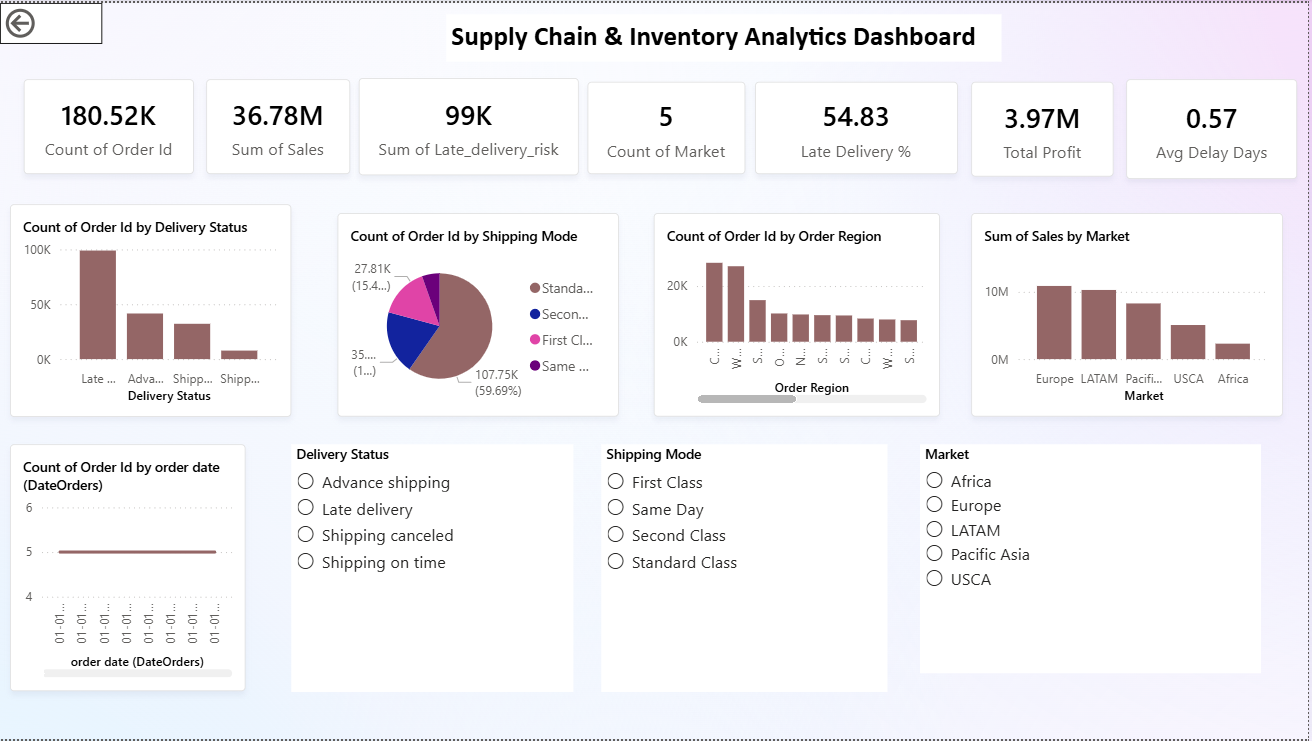

The dashboard page shown, as its layout file describes it:
{"tool":"powerbi","page":{"name":"Page 1","canvas":[1280,720],"ordinal":0},"visuals":[{"type":"card","fields":{"Values":["CountNonNull(supply_chain_cleaned.Order Id)"]},"box":[23.2,74.6,166.3,92.9],"z":0},{"type":"card","fields":{"Values":["Sum(supply_chain_cleaned.Sales)"]},"box":[201.8,74.6,140.6,92.9],"z":1000},{"type":"actionButton","box":[0,0,100,40],"z":2000},{"type":"columnChart","fields":{"Y":["CountNonNull(supply_chain_cleaned.Order Id)"],"Category":["supply_chain_cleaned.Delivery Status"]},"box":[9.8,196.9,275.1,207.9],"z":3000},{"type":"card","fields":{"Values":["Sum(supply_chain_cleaned.Late_delivery_risk)"]},"box":[351,73.4,215.2,95.4],"z":4000},{"type":"card","fields":{"Values":["Count(supply_chain_cleaned.Market)"]},"box":[574.7,77,154.1,90.5],"z":5000},{"type":"pieChart","fields":{"Category":["supply_chain_cleaned.Shipping Mode"],"Y":["CountNonNull(supply_chain_cleaned.Order Id)"]},"box":[330.2,205.4,275.1,199.3],"z":6000},{"type":"clusteredColumnChart","fields":{"Category":["supply_chain_cleaned.Order Region"],"Y":["CountNonNull(supply_chain_cleaned.Order Id)"]},"box":[639.5,205.4,280,199.3],"z":7000},{"type":"clusteredColumnChart","fields":{"Category":["supply_chain_cleaned.Market"],"Y":["Sum(supply_chain_cleaned.Sales)"]},"box":[950.1,205.4,304.5,199.3],"z":8000},{"type":"lineChart","fields":{"Category":["supply_chain_cleaned.order date (DateOrders)"],"Y":["CountNonNull(supply_chain_cleaned.Order Id)"]},"box":[9.6,432.2,230.5,241.5],"z":9000},{"type":"listSlicer","fields":{"Values":["supply_chain_cleaned.Delivery Status"]},"box":[284.9,431.7,276.4,242.1],"z":10000},{"type":"listSlicer","fields":{"Values":["supply_chain_cleaned.Shipping Mode"]},"box":[588.2,431.7,280,242.1],"z":11000},{"type":"listSlicer","fields":{"Values":["supply_chain_cleaned.Market"]},"box":[900,431.7,333.8,223.8],"z":12000},{"type":"textbox","box":[436.4,11,543.4,46.7],"z":13000},{"type":"card","fields":{"Values":["supply_chain_cleaned.Late Delivery %"]},"box":[738.6,77,198.1,90.5],"z":14000},{"type":"card","fields":{"Values":["supply_chain_cleaned.Avg Delay Days"]},"box":[1101.8,74.6,167.5,97.8],"z":15000},{"type":"card","fields":{"Values":["supply_chain_cleaned.Total Profit"]},"box":[950.1,77,139.4,92.9],"z":16000}]}

Visuals, with their boxes in screenshot pixels (x1, y1, x2, y2), scaled from the page's 1280x720 canvas onto the 1312x741 screenshot:
card - CountNonNull(supply_chain_cleaned.Order Id): {"x1": 24, "y1": 77, "x2": 194, "y2": 172}
card - Sum(supply_chain_cleaned.Sales): {"x1": 207, "y1": 77, "x2": 351, "y2": 172}
actionButton: {"x1": 0, "y1": 0, "x2": 102, "y2": 41}
columnChart - CountNonNull(supply_chain_cleaned.Order Id) x supply_chain_cleaned.Delivery Status: {"x1": 10, "y1": 203, "x2": 292, "y2": 417}
card - Sum(supply_chain_cleaned.Late_delivery_risk): {"x1": 360, "y1": 76, "x2": 580, "y2": 174}
card - Count(supply_chain_cleaned.Market): {"x1": 589, "y1": 79, "x2": 747, "y2": 172}
pieChart - supply_chain_cleaned.Shipping Mode x CountNonNull(supply_chain_cleaned.Order Id): {"x1": 338, "y1": 211, "x2": 620, "y2": 417}
clusteredColumnChart - supply_chain_cleaned.Order Region x CountNonNull(supply_chain_cleaned.Order Id): {"x1": 655, "y1": 211, "x2": 942, "y2": 417}
clusteredColumnChart - supply_chain_cleaned.Market x Sum(supply_chain_cleaned.Sales): {"x1": 974, "y1": 211, "x2": 1286, "y2": 417}
lineChart - supply_chain_cleaned.order date (DateOrders) x CountNonNull(supply_chain_cleaned.Order Id): {"x1": 10, "y1": 445, "x2": 246, "y2": 693}
listSlicer - supply_chain_cleaned.Delivery Status: {"x1": 292, "y1": 444, "x2": 575, "y2": 693}
listSlicer - supply_chain_cleaned.Shipping Mode: {"x1": 603, "y1": 444, "x2": 890, "y2": 693}
listSlicer - supply_chain_cleaned.Market: {"x1": 922, "y1": 444, "x2": 1265, "y2": 675}
textbox: {"x1": 447, "y1": 11, "x2": 1004, "y2": 59}
card - supply_chain_cleaned.Late Delivery %: {"x1": 757, "y1": 79, "x2": 960, "y2": 172}
card - supply_chain_cleaned.Avg Delay Days: {"x1": 1129, "y1": 77, "x2": 1301, "y2": 177}
card - supply_chain_cleaned.Total Profit: {"x1": 974, "y1": 79, "x2": 1117, "y2": 175}
